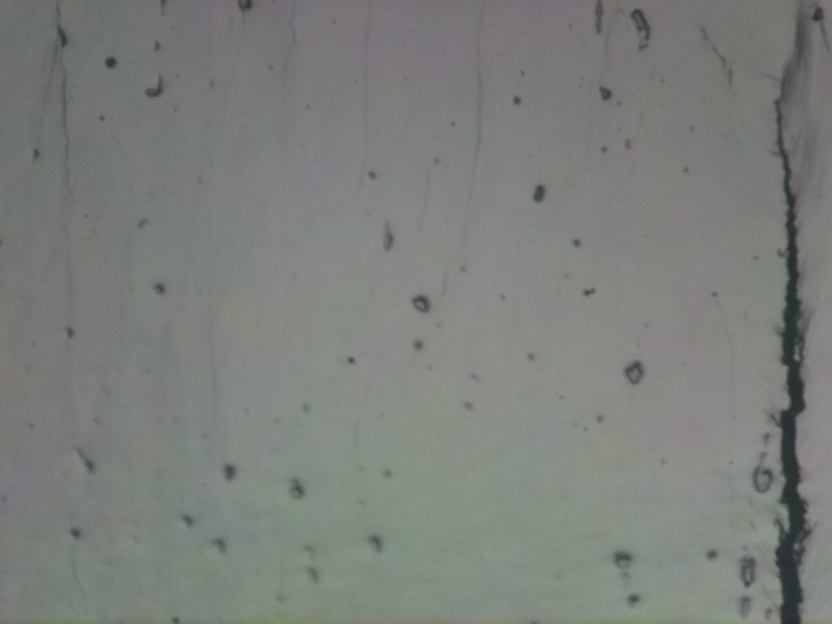crack: (772, 78, 813, 624)
